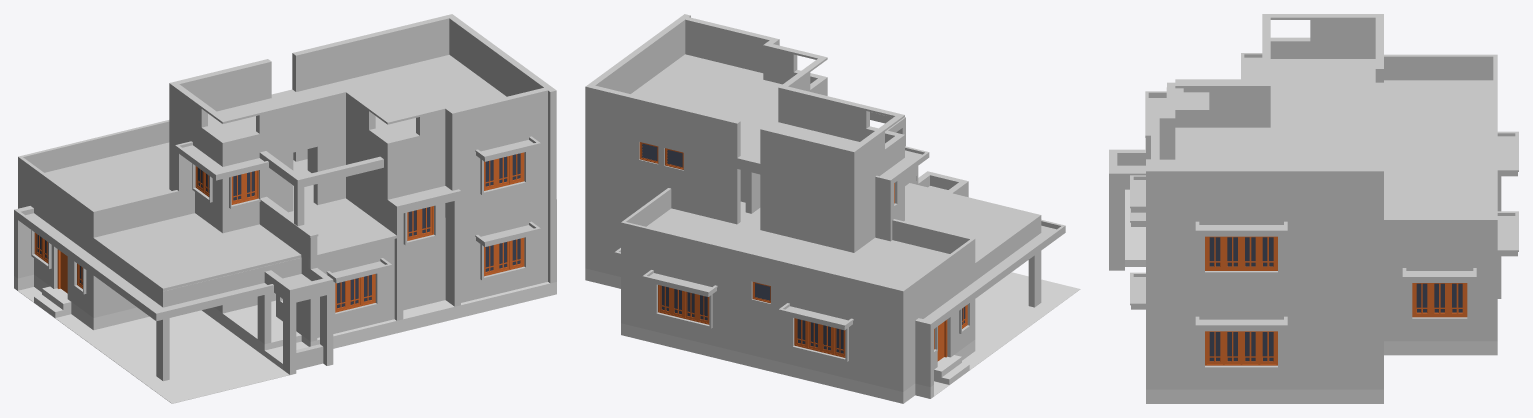
The model's file is house.glb.
3 views of the same model, side by side, from view 1: azimuth 30°, elevation 25°; view 2: azimuth 150°, elevation 25°; view 3: azimuth 270°, elevation 25° (orthographic). The views are drawn at different scales.
Visible parts, largest first — view 1: ground walls, car_porch, floor; view 2: ground walls, floor, car_porch; view 3: ground walls, floor, window.026, window.027, window.028, window.022, window.023, window.024, window.038, window.039, window.025, window_frame.009 (+5 smaller).
Part boxes in pixels (x1=…): ground walls: x1=14, y1=14, x2=556, y2=381; car_porch: x1=18, y1=287, x2=289, y2=403; floor: x1=14, y1=274, x2=556, y2=369; ground walls: x1=585, y1=14, x2=1065, y2=391; floor: x1=585, y1=268, x2=975, y2=403; car_porch: x1=934, y1=272, x2=1080, y2=396; ground walls: x1=1109, y1=14, x2=1518, y2=389; floor: x1=1125, y1=239, x2=1497, y2=403; window.026: x1=1224, y1=236, x2=1240, y2=269; window.027: x1=1242, y1=236, x2=1258, y2=269; window.028: x1=1260, y1=236, x2=1276, y2=269; window.022: x1=1224, y1=331, x2=1240, y2=363; window.023: x1=1242, y1=331, x2=1258, y2=363; window.024: x1=1260, y1=331, x2=1276, y2=363; window.038: x1=1431, y1=283, x2=1447, y2=315; window.039: x1=1449, y1=283, x2=1465, y2=315; window.025: x1=1207, y1=236, x2=1222, y2=269; window_frame.009: x1=1205, y1=331, x2=1277, y2=365.
Size of the model in its own units: 1.54 by 0.7214 by 1.15.
